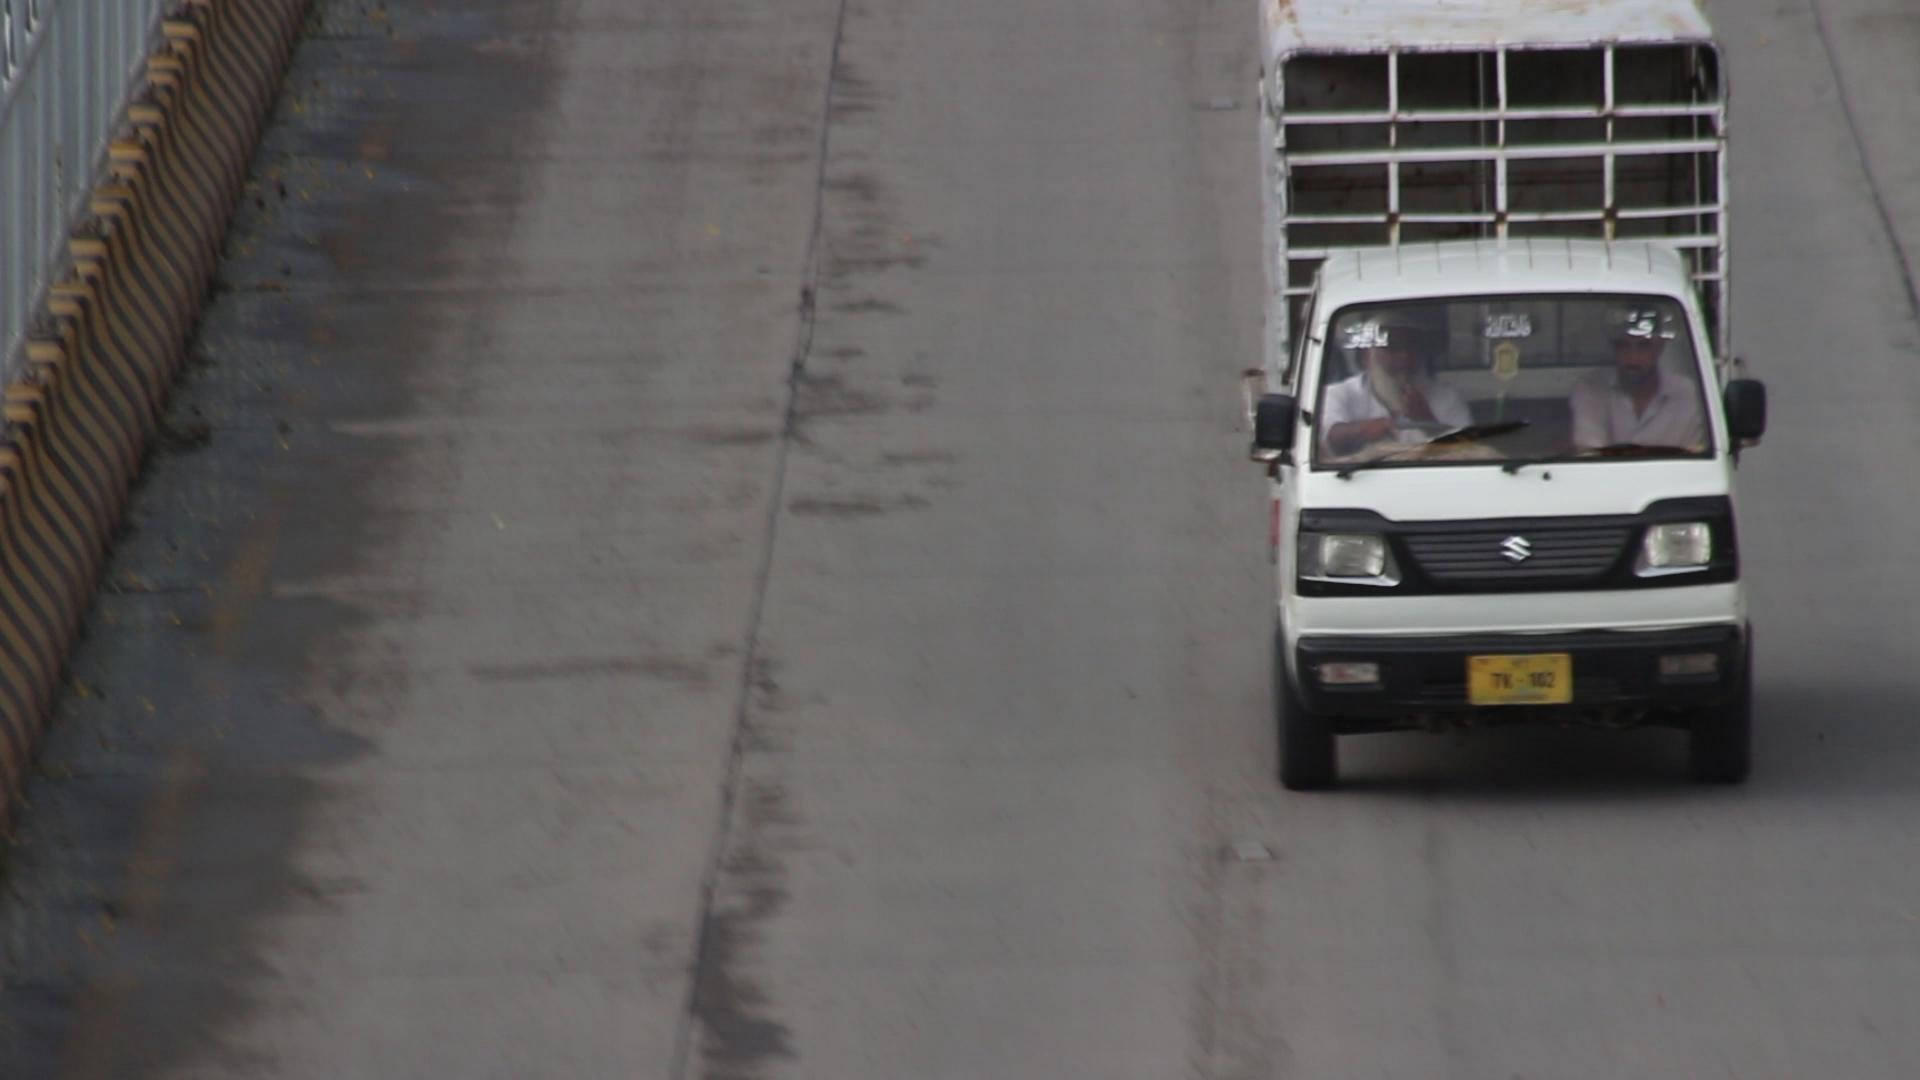windshield: (1294, 286, 1730, 491)
